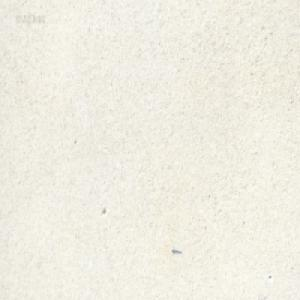Nail: (171, 245, 181, 253)
